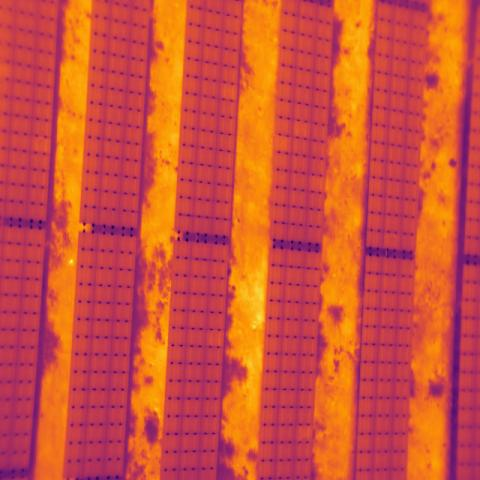fault: (218, 81, 238, 102), (273, 134, 293, 154), (295, 424, 314, 444), (294, 120, 311, 139)
